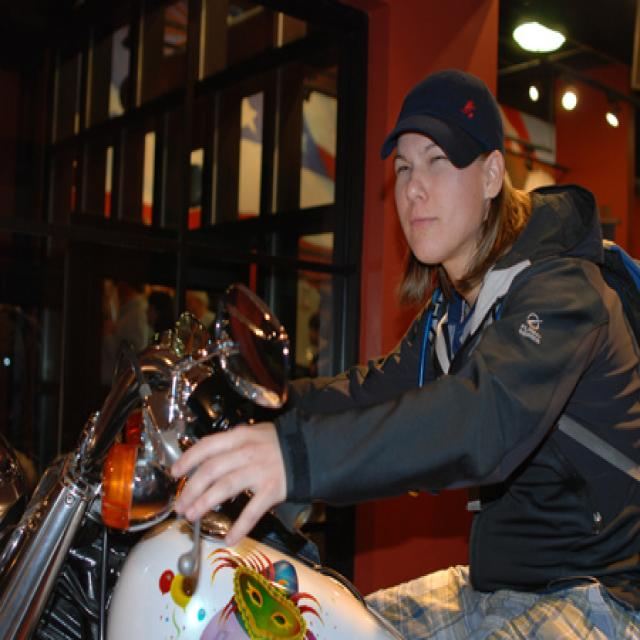motor: (2, 279, 404, 631)
